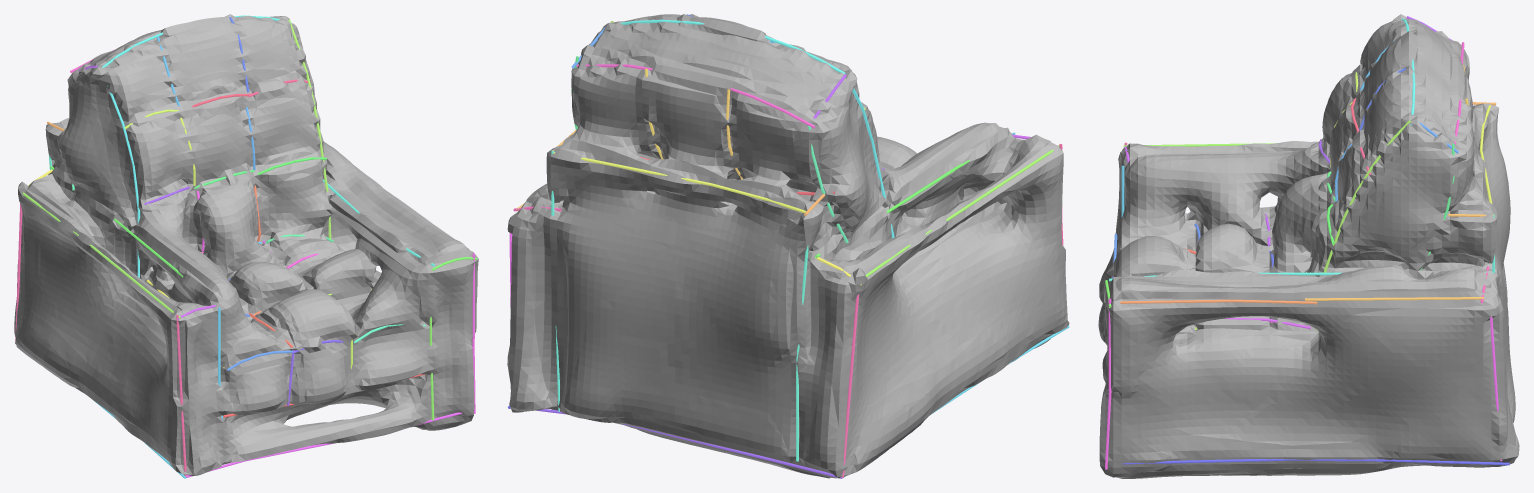
Rendered from author2_sofa.gltf.
3 views of the same model, side by side, from view 1: azimuth 30°, elevation 25°; view 2: azimuth 150°, elevation 25°; view 3: azimuth 270°, elevation 25° (orthographic). The views are drawn at different scales.
Size of the model in its own units: 0.5636 by 0.6189 by 0.6321.
